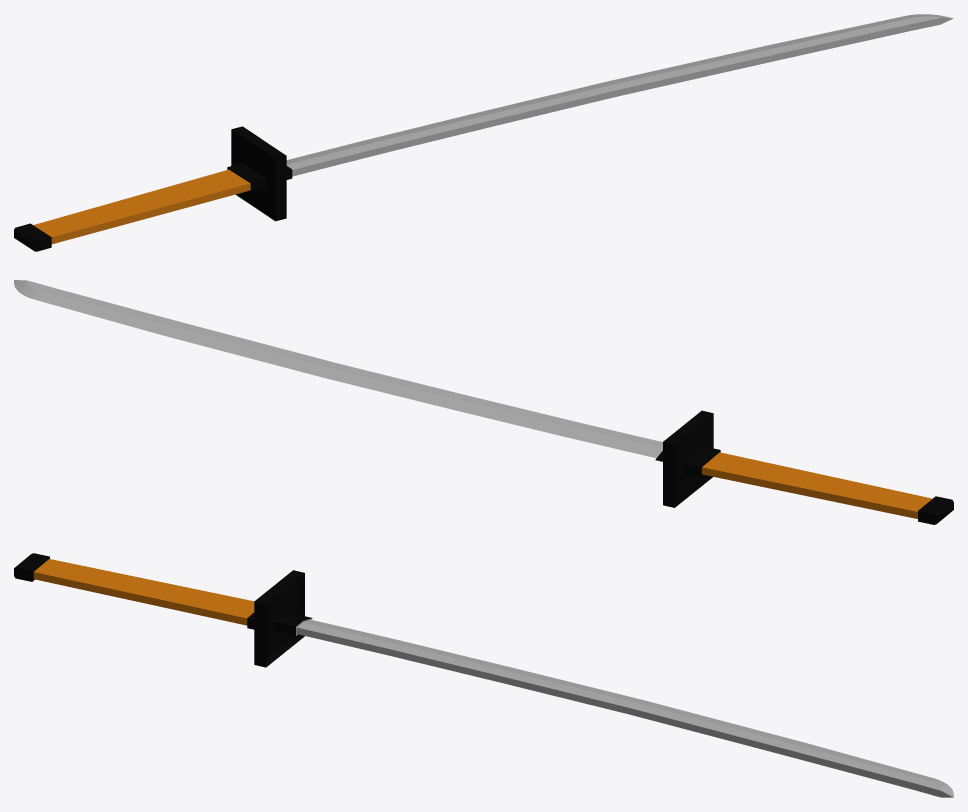
File: Grey-Brown-Katana.fbx
The picture shows the model from 3 angles, top to bottom: view 1: azimuth 30°, elevation 25°; view 2: azimuth 150°, elevation 25°; view 3: azimuth 330°, elevation 25°; orthographic projection.
Parts seen in each view (by area): view 1: Cube; view 2: Cube; view 3: Cube.
Part boxes in pixels (x1,y1,x2,y2): Cube: (14,14,953,251); Cube: (14,280,953,524); Cube: (14,553,953,797).
Bounding box in the file's own units: 139 × 8.94 × 10.73.
